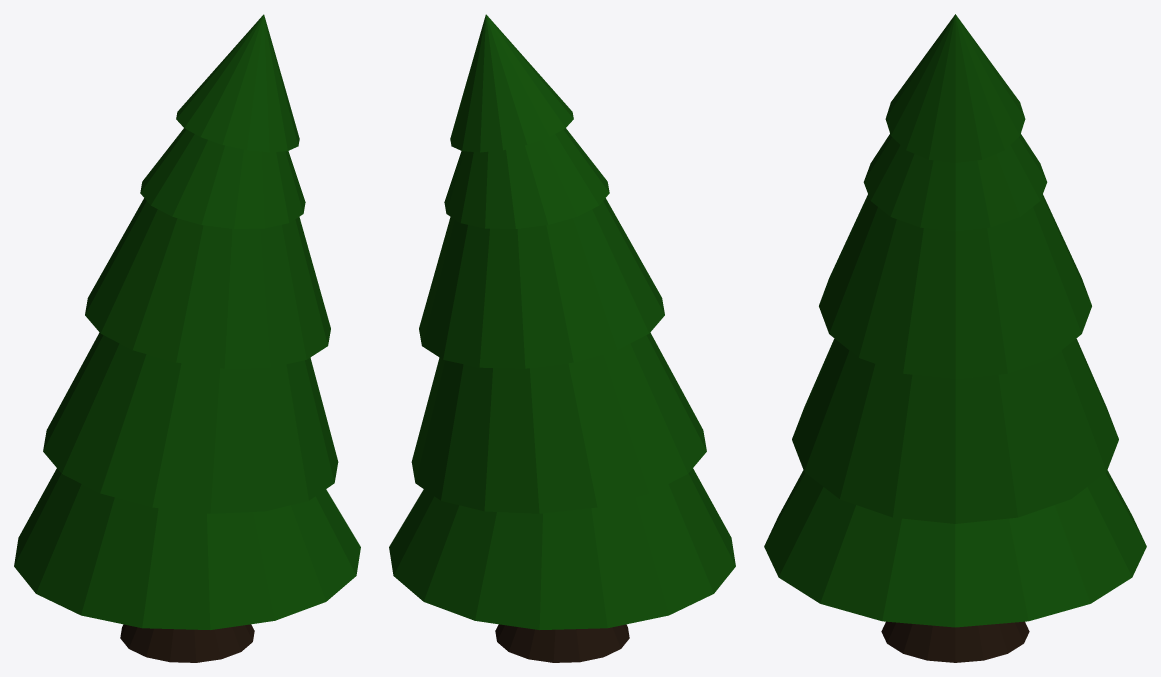
File: Tree6.2.fbx
3 renders of one model, left to right at view 1: azimuth 30°, elevation 25°; view 2: azimuth 150°, elevation 25°; view 3: azimuth 270°, elevation 25°, orthographic. The views are drawn at different scales.
Visible parts, largest first — view 1: Tree; view 2: Tree; view 3: Tree.
Boxes of the visible parts, <box> form: Tree: <box>14,14,360,662</box>; Tree: <box>389,14,735,662</box>; Tree: <box>764,14,1146,662</box>.
Size of the model in its own units: 528 by 1001 by 528.
